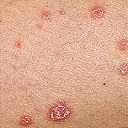Psoriasis: (48, 104, 76, 121), (92, 6, 106, 19), (18, 115, 31, 125)
